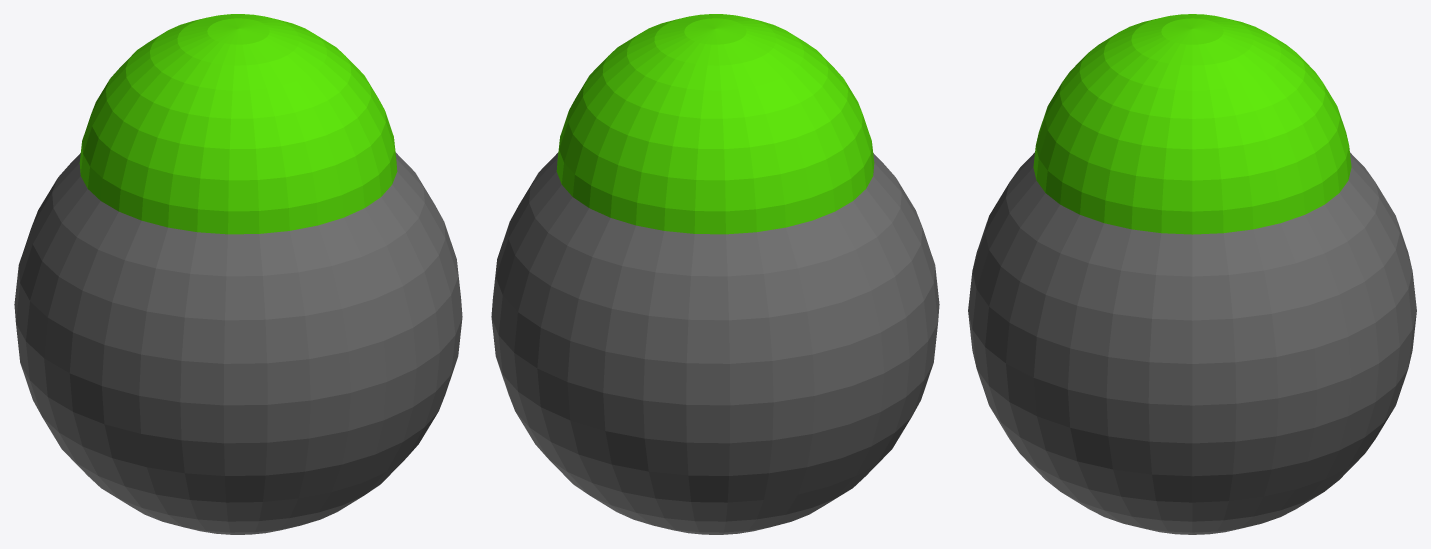
The model's file is objectbomb.fbx.
3 renders of one model, left to right at view 1: azimuth 30°, elevation 25°; view 2: azimuth 150°, elevation 25°; view 3: azimuth 270°, elevation 25°, orthographic.
Parts seen in each view (by area): view 1: 球, 球.001; view 2: 球, 球.001; view 3: 球, 球.001.
Part boxes in pixels (<box>): 球: <box>14,152,462,534</box>; 球.001: <box>79,14,397,234</box>; 球: <box>491,152,939,534</box>; 球.001: <box>556,14,874,234</box>; 球: <box>968,152,1416,534</box>; 球.001: <box>1033,14,1351,234</box>.
Size of the model in its own units: 281 by 335 by 281.
